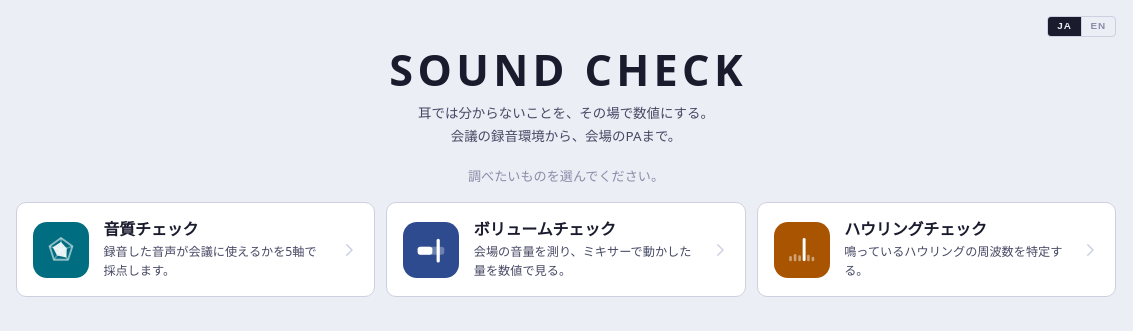
シェル — 言語切替 › EN でメニューが英語になる
Click the button "EN": [1098, 26] box [1082,17,1115,36]
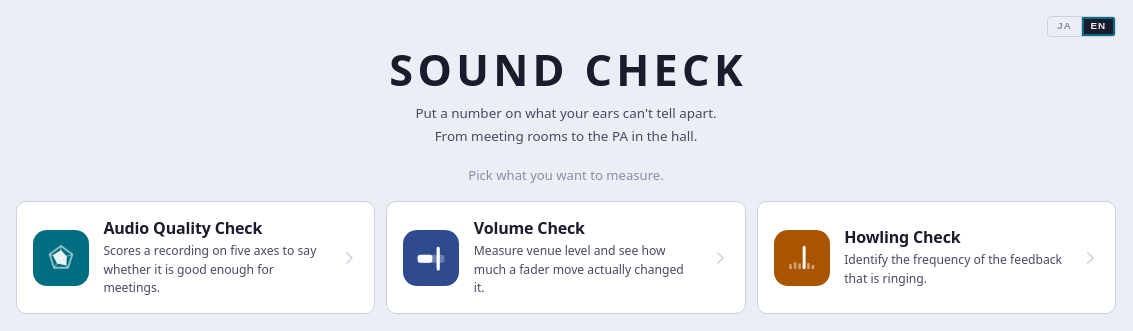
expect the text "Put a number on what your ears" is shown: met, box [415,104,717,145]
expect the text "Audio Quality Check" is shown: met, box [103,217,262,239]
